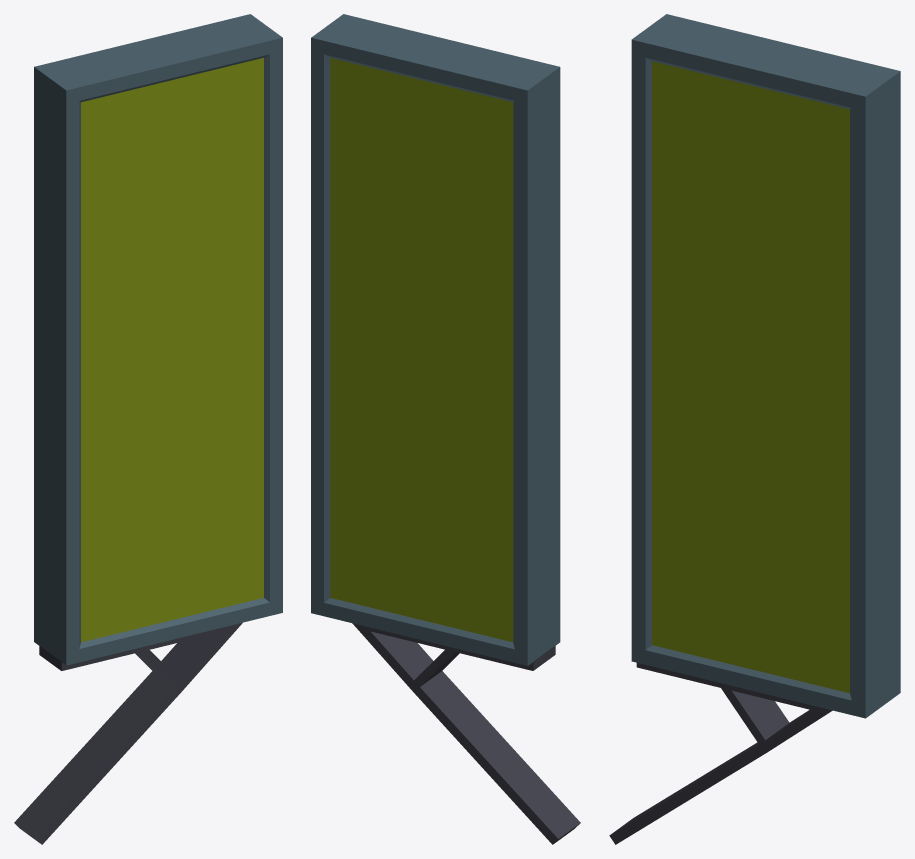
The model's file is DisplayBoarad_B.fbx.
The picture shows the model from 3 angles, left to right: view 1: azimuth 30°, elevation 25°; view 2: azimuth 150°, elevation 25°; view 3: azimuth 330°, elevation 25°; orthographic projection. The views are drawn at different scales.
Visible parts, largest first — view 1: Object023; view 2: Object023; view 3: Object023.
Part boxes in pixels (left/top/right/bottom): Object023: left=14, top=14, right=282, bottom=844; Object023: left=311, top=14, right=580, bottom=844; Object023: left=609, top=14, right=900, bottom=844.
Bounding box in the file's own units: 93.69 × 279 × 21.73.
